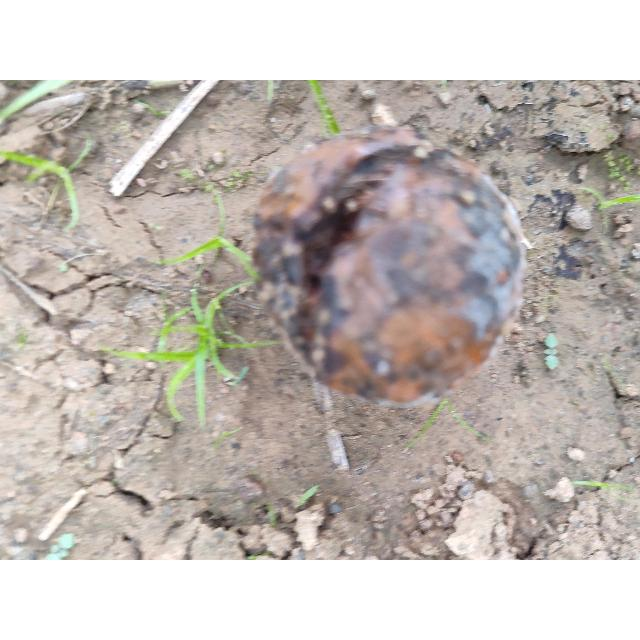damaged: (251, 127, 528, 406)
